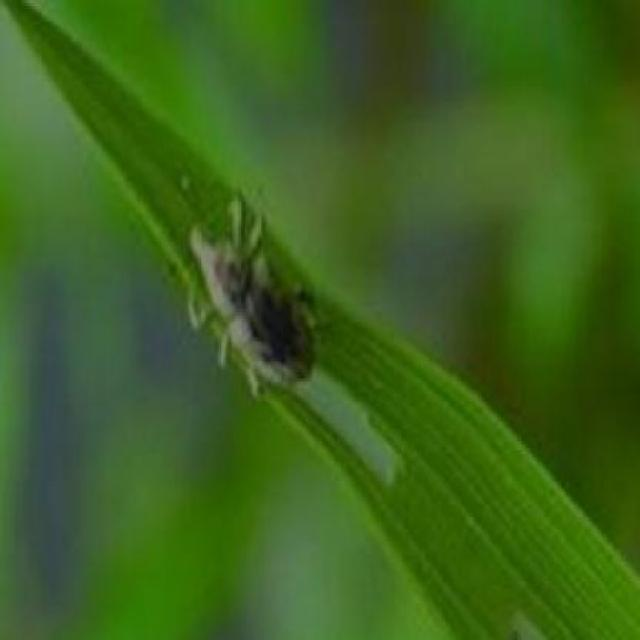rice-bug: (180, 180, 322, 400)
